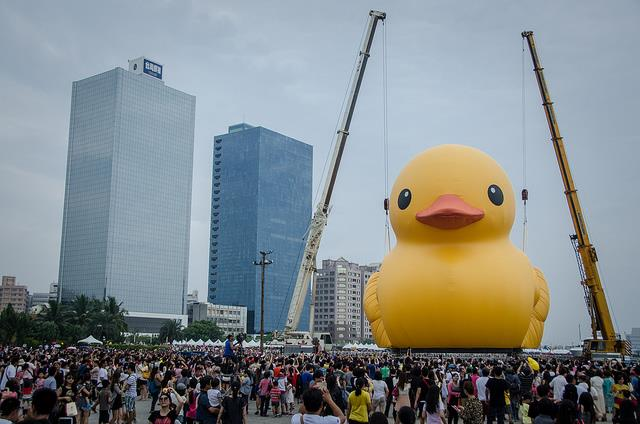rubber_duck: (358, 144, 554, 353)
